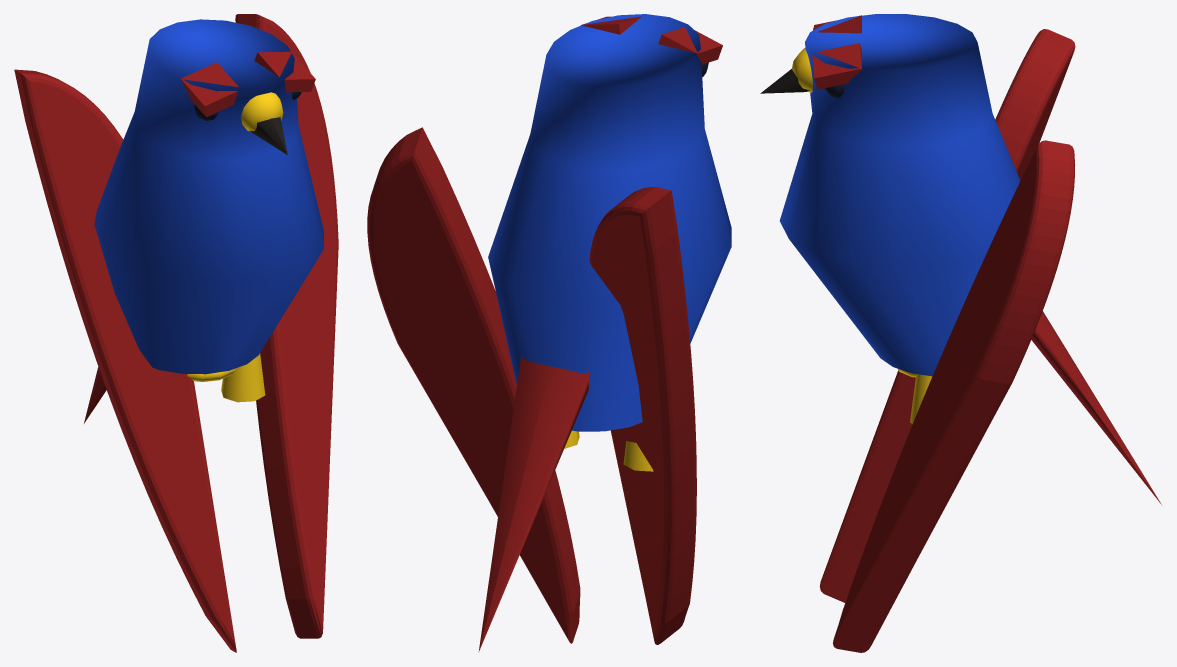
File: falcon.glb
3 renders of one model, left to right at view 1: azimuth 30°, elevation 25°; view 2: azimuth 150°, elevation 25°; view 3: azimuth 270°, elevation 25°, orthographic. The views are drawn at different scales.
Visible parts, largest first — view 1: falcon_body, falcon_wing_-1, falcon_wing_1, falcon_brow_-1, talon_1, falcon_brow_1, falcon_cere, falcon_beak; view 2: falcon_body, falcon_wing_1, falcon_wing_-1, falcon_tail, falcon_brow_-1, talon_-1, falcon_brow_1; view 3: falcon_body, falcon_wing_1, falcon_wing_-1, falcon_tail, falcon_brow_1, falcon_cere, falcon_beak.
Part boxes in pixels (<box>): falcon_body: <box>94,19,323,374</box>; falcon_wing_-1: <box>14,69,236,652</box>; falcon_wing_1: <box>235,14,338,638</box>; falcon_brow_-1: <box>181,62,238,117</box>; talon_1: <box>221,353,265,402</box>; falcon_brow_1: <box>254,51,315,92</box>; falcon_cere: <box>241,92,283,131</box>; falcon_beak: <box>249,117,287,154</box>; falcon_body: <box>488,14,731,431</box>; falcon_wing_1: <box>367,127,580,643</box>; falcon_wing_-1: <box>589,187,696,644</box>; falcon_tail: <box>478,355,589,651</box>; falcon_brow_-1: <box>658,27,722,64</box>; talon_-1: <box>623,441,653,471</box>; falcon_brow_1: <box>581,16,641,34</box>; falcon_body: <box>779,14,1020,376</box>; falcon_wing_1: <box>833,140,1075,652</box>; falcon_wing_-1: <box>819,29,1075,602</box>; falcon_tail: <box>1031,311,1162,505</box>; falcon_brow_1: <box>812,43,862,89</box>; falcon_cere: <box>792,48,812,92</box>; falcon_beak: <box>760,69,809,93</box>.
Bounding box in the file's own units: 0.1771 × 0.346 × 0.2144.
